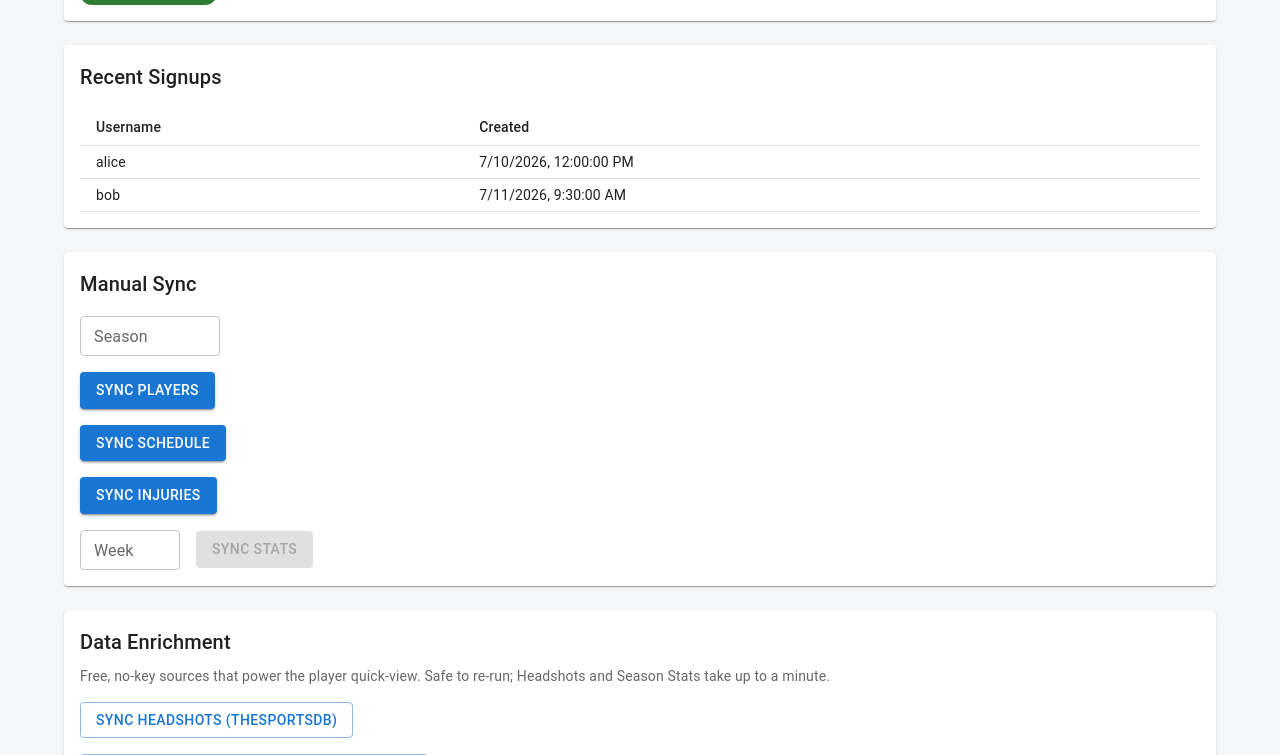
Scenario: clicking Sync Players POSTs the correct URL and body and renders the result
(page scrolled)
Click the button "Sync Players": (148, 390) [80,372,215,408]
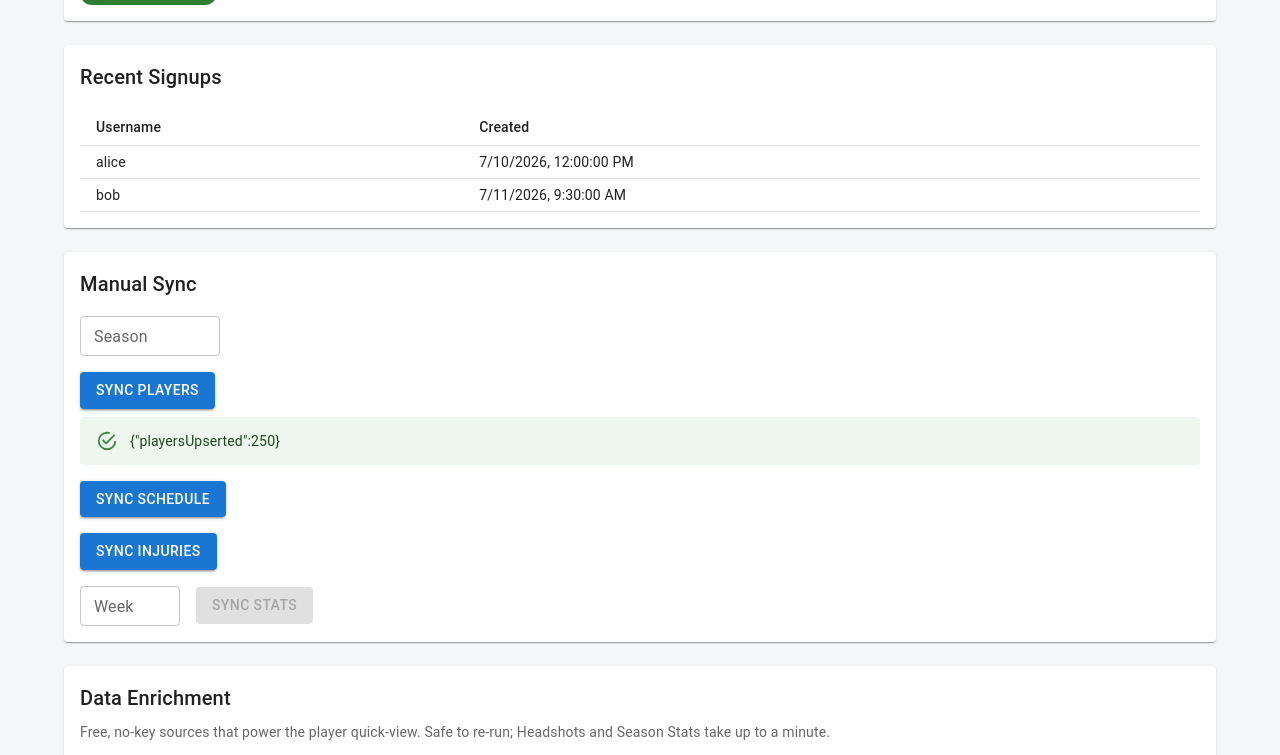
Check: the text "{\"playersUpserted\":250}" is shown, box [130,432,280,448]
